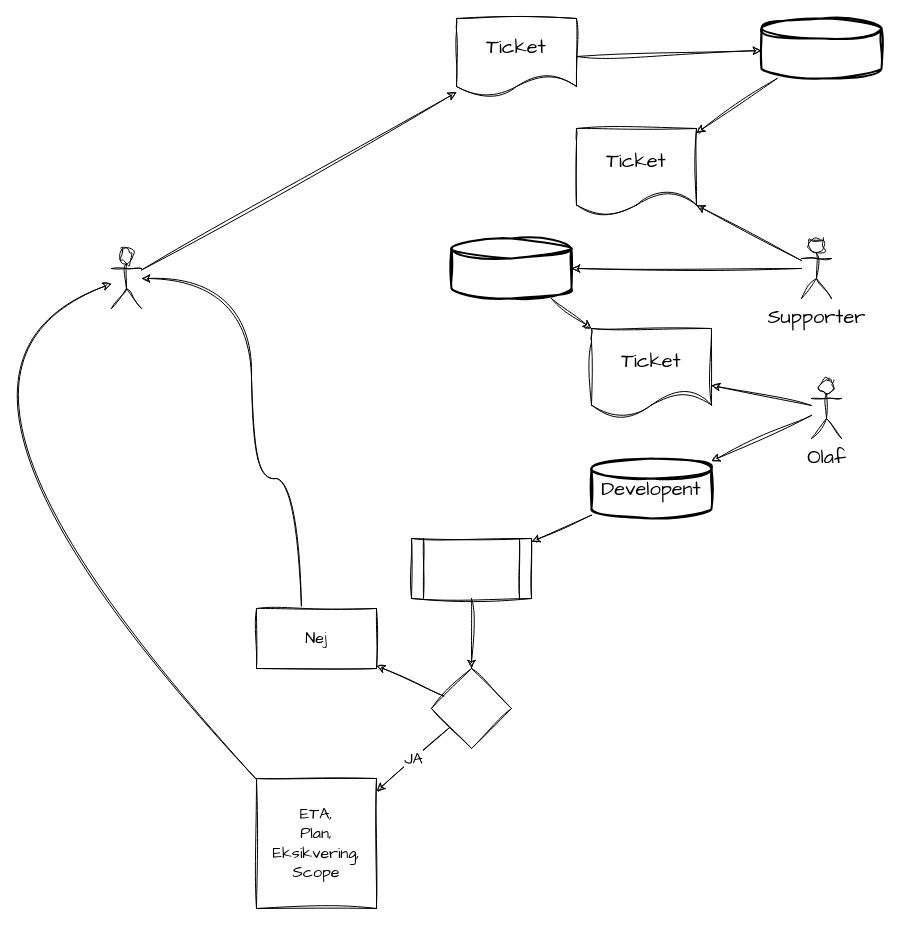
Some shapes in this 900 by 926 pixel diagram are drawn without their labels. Each missing label, with the centre of its shape:
Kunde: point 126,278
Løses: point 471,708
Operations: point 511,268
Support: point 821,48
